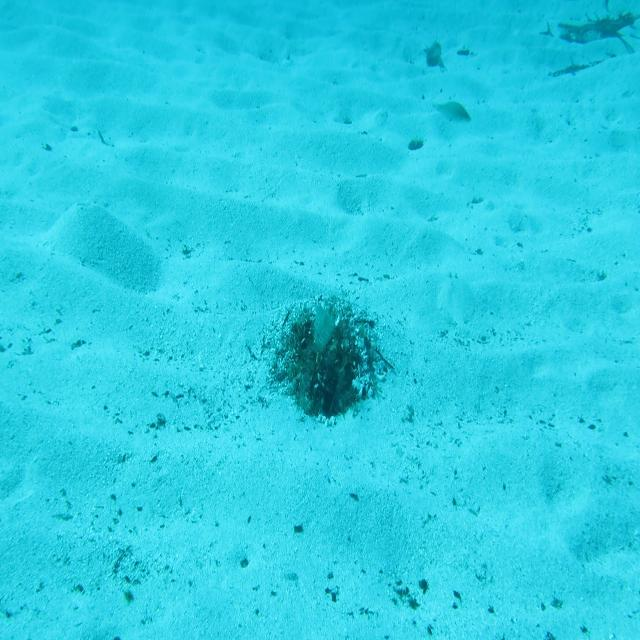NIP_IN: (312, 296, 336, 356)
female: (429, 94, 473, 125)
nest: (282, 298, 382, 423)
